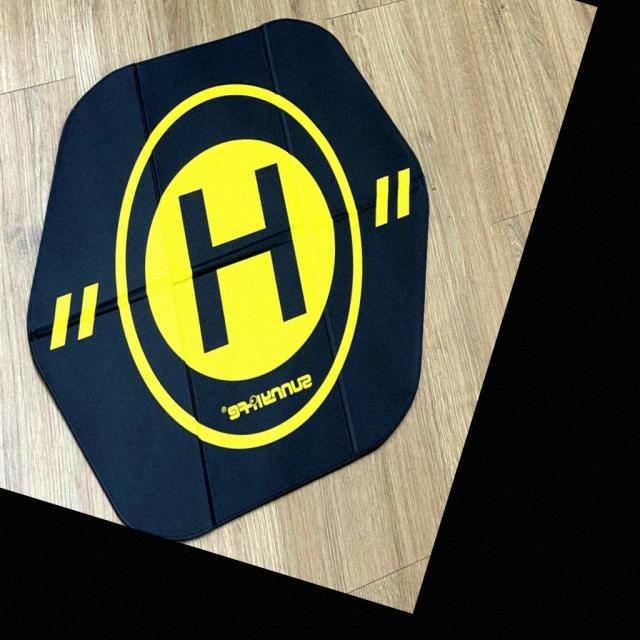helipad: (109, 77, 369, 455)
